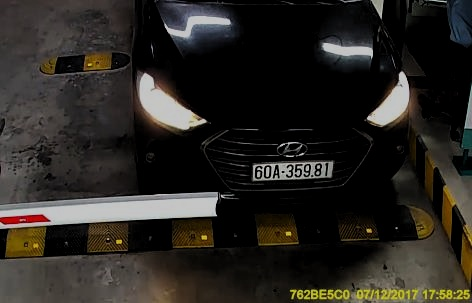plate: (250, 159, 333, 181)
